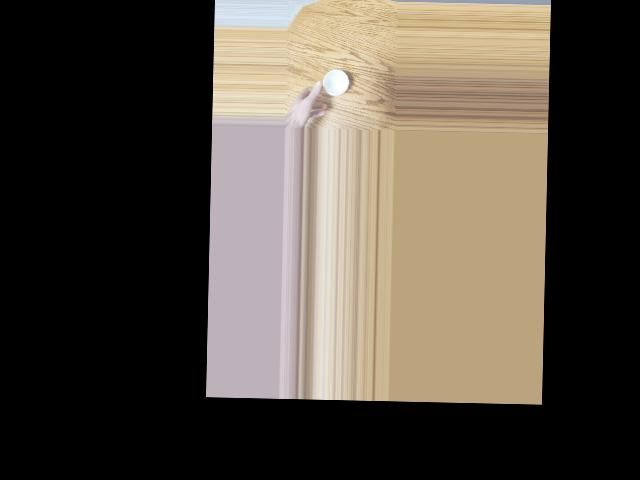cotage: (315, 63, 351, 101)
